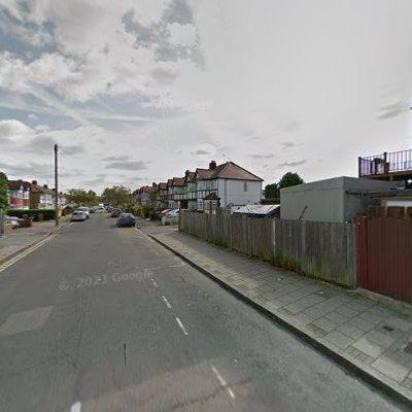stationary-car-offstreet: (4, 218, 22, 230), (164, 207, 182, 215), (159, 208, 173, 214)
stationary-car-onstreet: (116, 212, 136, 228), (70, 209, 88, 221), (76, 206, 90, 218), (110, 206, 122, 218)
